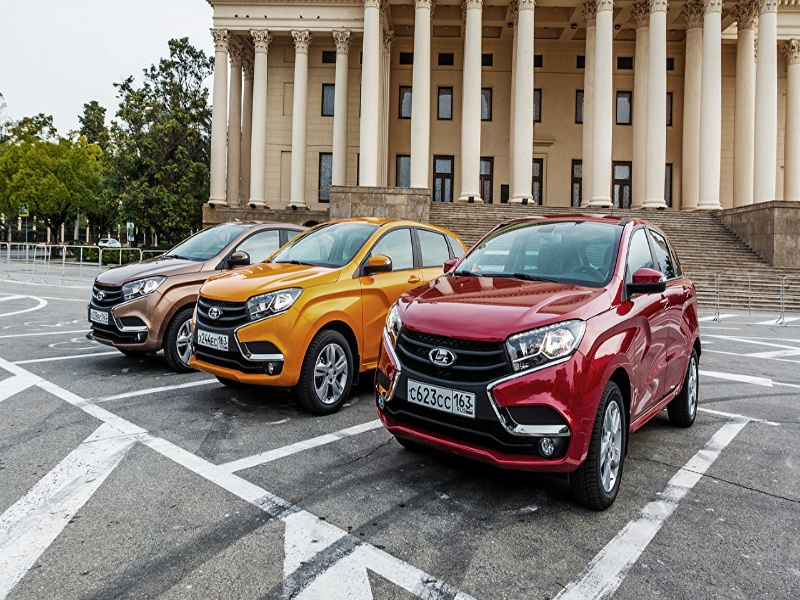car: (372, 214, 702, 510), (187, 217, 469, 416), (86, 220, 307, 375)
plate: (406, 378, 475, 418), (198, 329, 228, 353), (89, 309, 107, 325)
